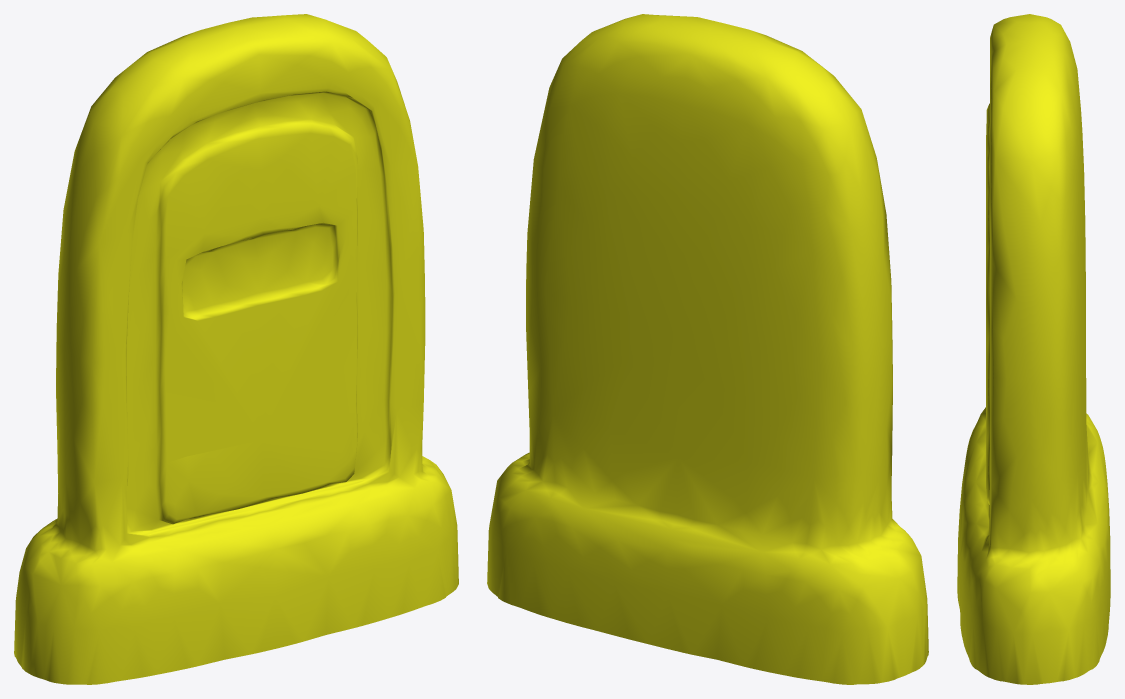
The model's file is Grave.obj.
3 renders of one model, left to right at view 1: azimuth 30°, elevation 25°; view 2: azimuth 150°, elevation 25°; view 3: azimuth 270°, elevation 25°, orthographic. The views are drawn at different scales.
Visible parts, largest first — view 1: pasted__pCube2 group82; view 2: pasted__pCube2 group82; view 3: pasted__pCube2 group82.
Part boxes in pixels (x1=…): pasted__pCube2 group82: x1=14, y1=14, x2=458, y2=684; pasted__pCube2 group82: x1=487, y1=14, x2=928, y2=684; pasted__pCube2 group82: x1=957, y1=14, x2=1110, y2=684.
Bounding box in the file's own units: 3.8 × 5.05 × 1.28.
